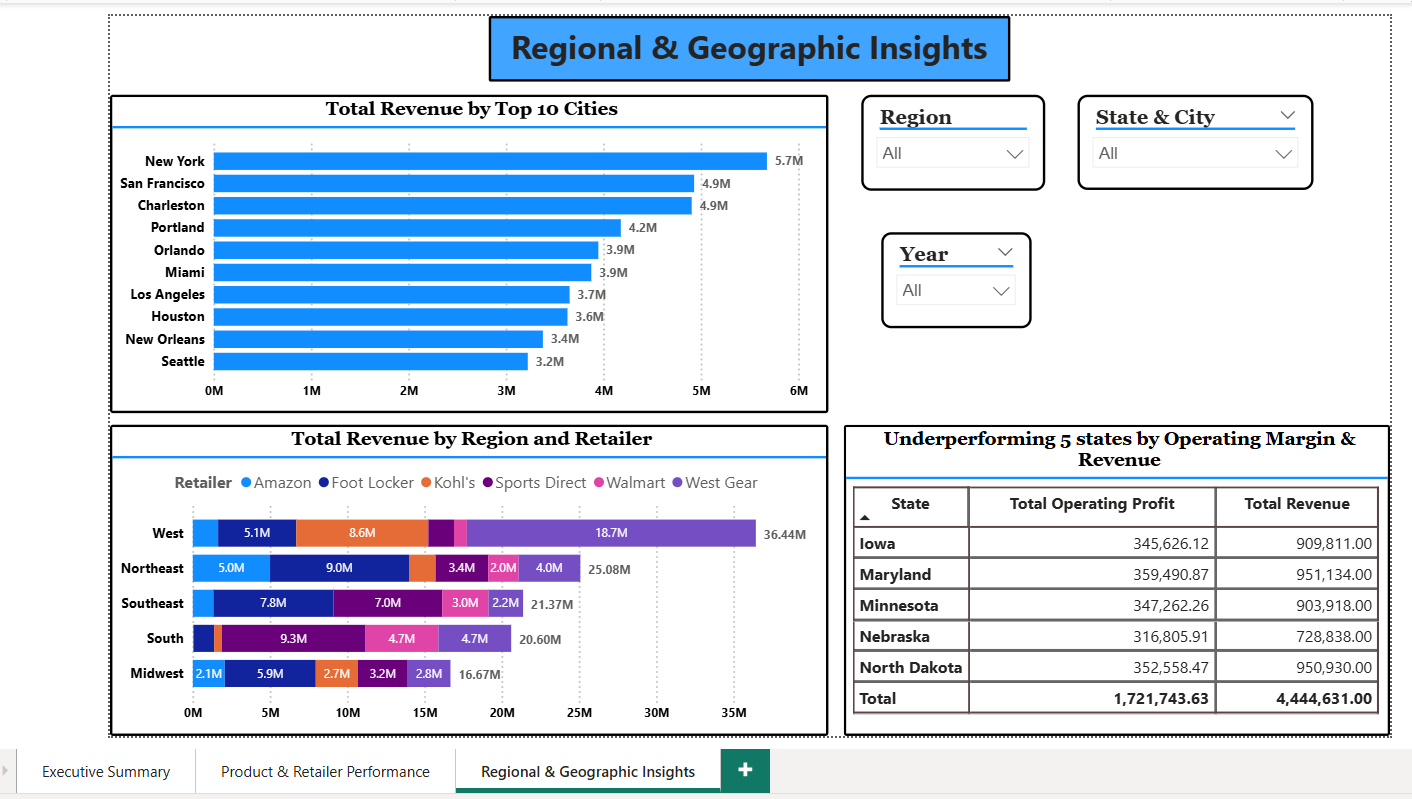

The page's visual inventory and layout, read from the dashboard file:
{"tool":"powerbi","page":{"name":"Regional & Geographic Insights","canvas":[1280,720],"ordinal":2},"visuals":[{"type":"textbox","box":[379,0,522,65.2],"z":0},{"type":"barChart","title":"Total Revenue by Region and Retailer","fields":{"Y":["adidas_data adidas.Total Revenue"],"Category":["adidas_data adidas.region"],"Series":["adidas_data adidas.retailer"]},"box":[0,408.8,718.8,311.2],"z":1000},{"type":"slicer","fields":{"Values":["adidas_data adidas.region"]},"box":[751.2,78.8,183.8,96.2],"z":2000},{"type":"slicer","fields":{"Values":["adidas_data adidas.state","adidas_data adidas.city"]},"box":[967.5,78.8,236.2,95],"z":3000},{"type":"slicer","fields":{"Values":["adidas_data adidas.invoice_date.Variation.Date Hierarchy.Year"]},"box":[771.2,216.2,150,96.2],"z":4000},{"type":"clusteredBarChart","title":"Total Revenue by Top 10 Cities","fields":{"Category":["adidas_data adidas.city"],"Y":["adidas_data adidas.Total Revenue"]},"box":[0,78.8,718.8,318.8],"z":5000},{"type":"pivotTable","title":"Underperforming 5 states by Operating Margin & Revenue","fields":{"Rows":["adidas_data adidas.state"],"Values":["adidas_data adidas.Total Operating Profit","adidas_data adidas.Total Revenue"]},"box":[733.8,408.8,546.2,311.2],"z":6000}]}

Visuals, with their boxes on the page's 1280x720 design canvas (x1, y1, x2, y2). These are canvas units, not pixel positions in the 1412x799 screenshot, which may show the page scaled, cropped or inside an application window:
textbox: locate(379, 0, 901, 65)
"Total Revenue by Region and Retailer" barChart: locate(0, 409, 719, 720)
slicer - adidas_data adidas.region: locate(751, 79, 935, 175)
slicer - adidas_data adidas.state x adidas_data adidas.city: locate(968, 79, 1204, 174)
slicer - adidas_data adidas.invoice_date.Variation.Date Hierarchy.Year: locate(771, 216, 921, 312)
"Total Revenue by Top 10 Cities" clusteredBarChart: locate(0, 79, 719, 398)
"Underperforming 5 states by Operating Margin & Revenue" pivotTable: locate(734, 409, 1280, 720)
